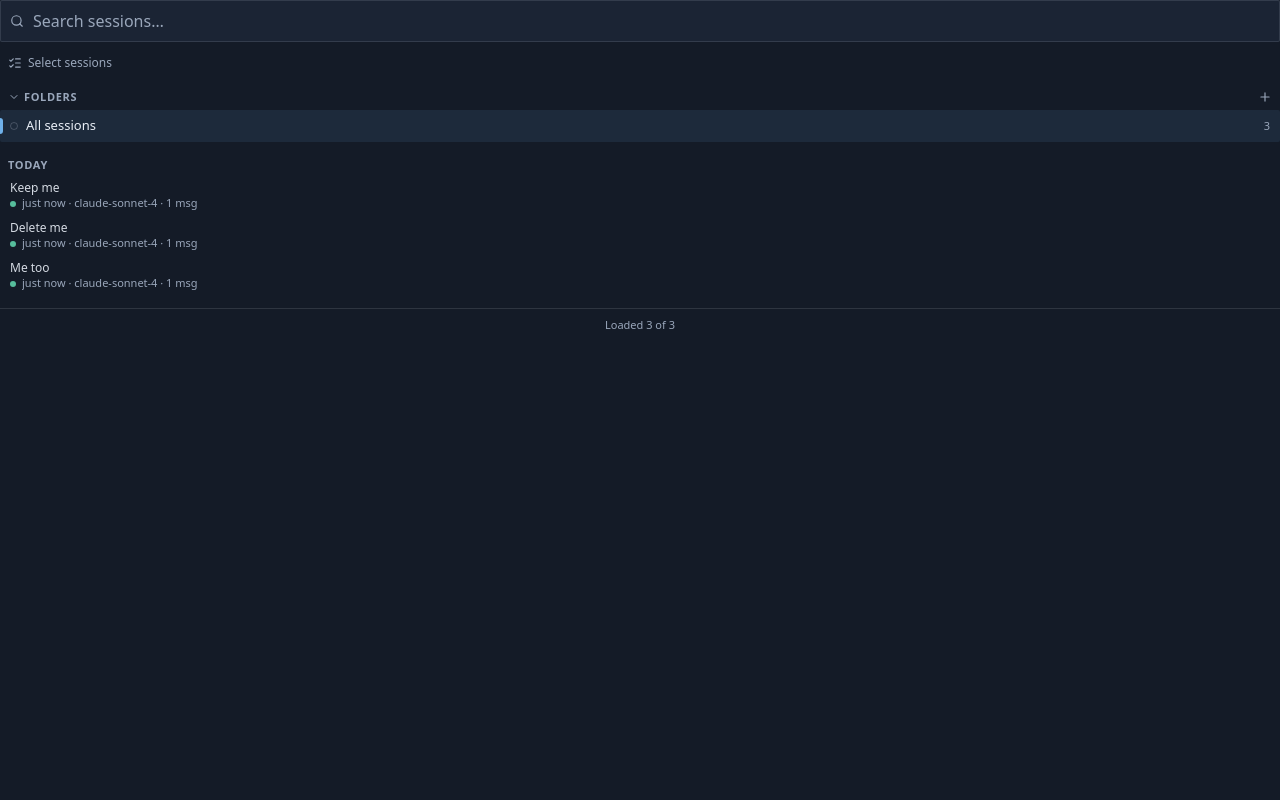
SessionList bulk-ops wiring (connected) › multi-selects rows and deletes each checked session on confirm
The image size is (1280, 800).
Expected: the text "Delete me" is shown, [10,219,68,236]
Enter multi-select mode.
Step 1. Click the button "Select sessions" → (60, 63), box [0,50,120,76]
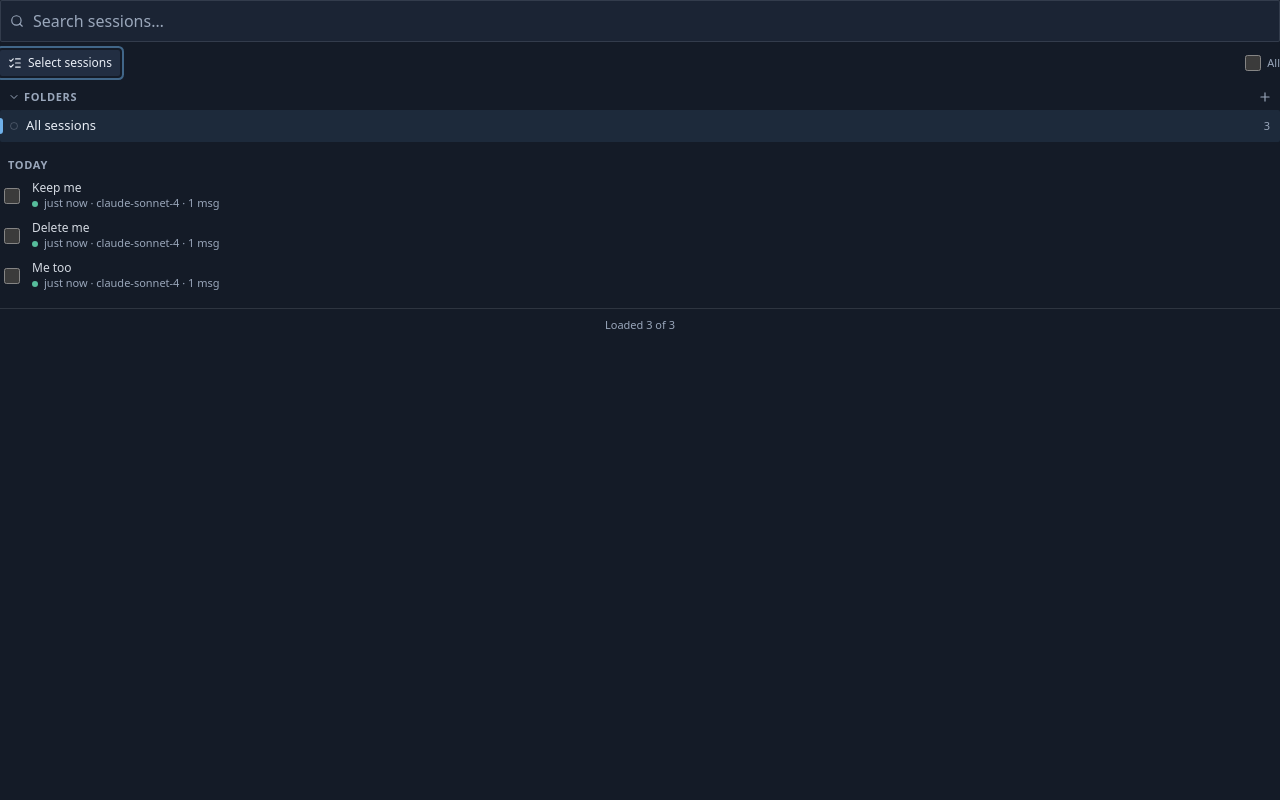
Check two of the three rows.
Step 2. Click the checkbox named "Delete me" → (12, 236), box [4,228,20,244]
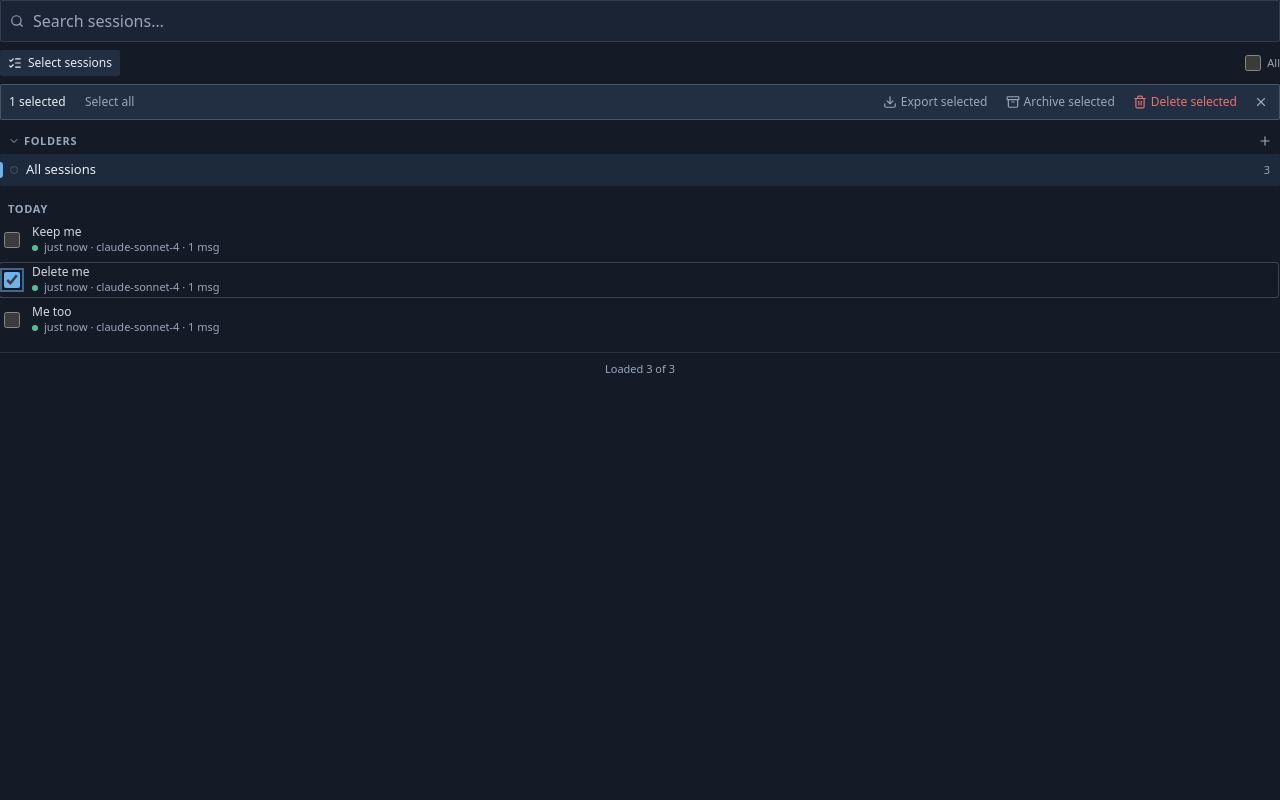
Step 3. Click the checkbox named "Me too" → (12, 320), box [4,312,20,328]
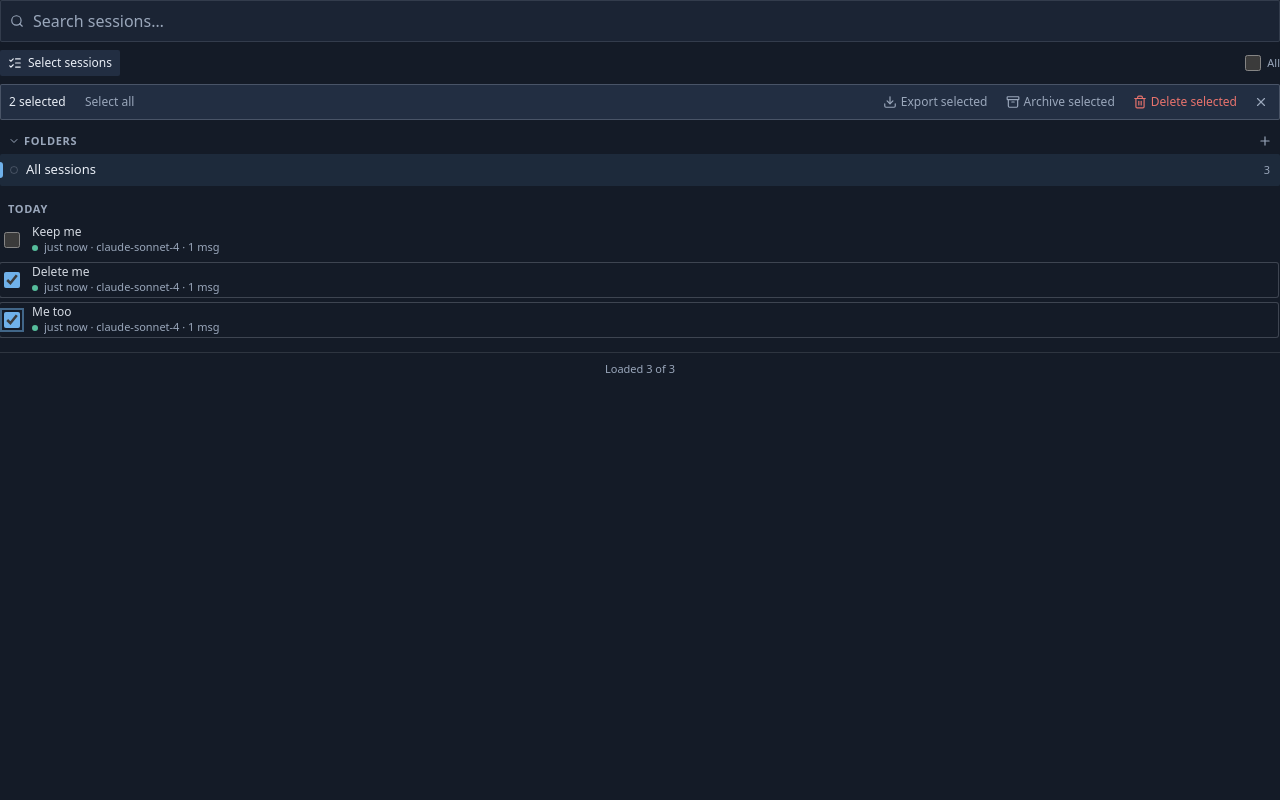
Expected: the text "2 selected" is shown, [9,93,73,111]
Step 4. Click the button with aria-label "delete selected sessions" → (1185, 102), box [1127,91,1243,113]
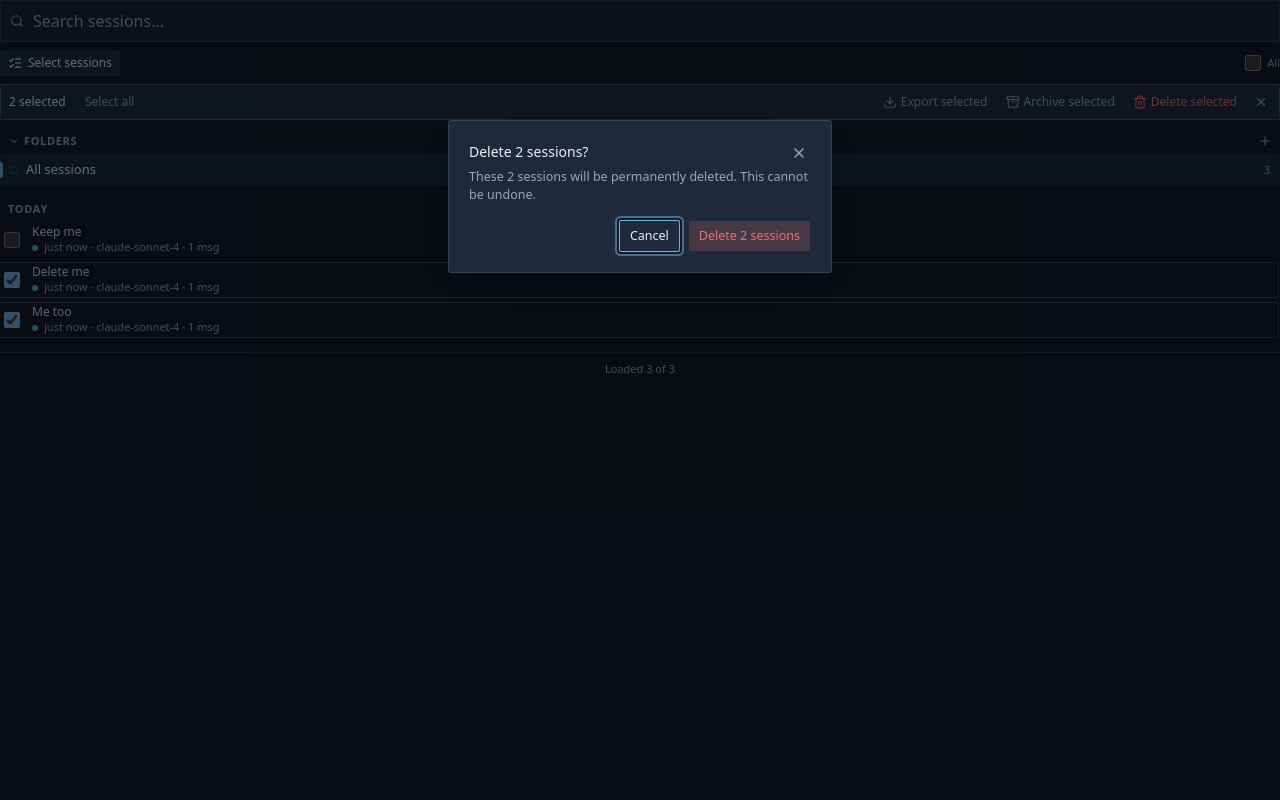
Expected: the heading "Delete 2 sessions?" is shown, [469,142,588,161]
Step 5. Click the button "Delete 2 sessions" → (749, 236), box [688,220,811,252]
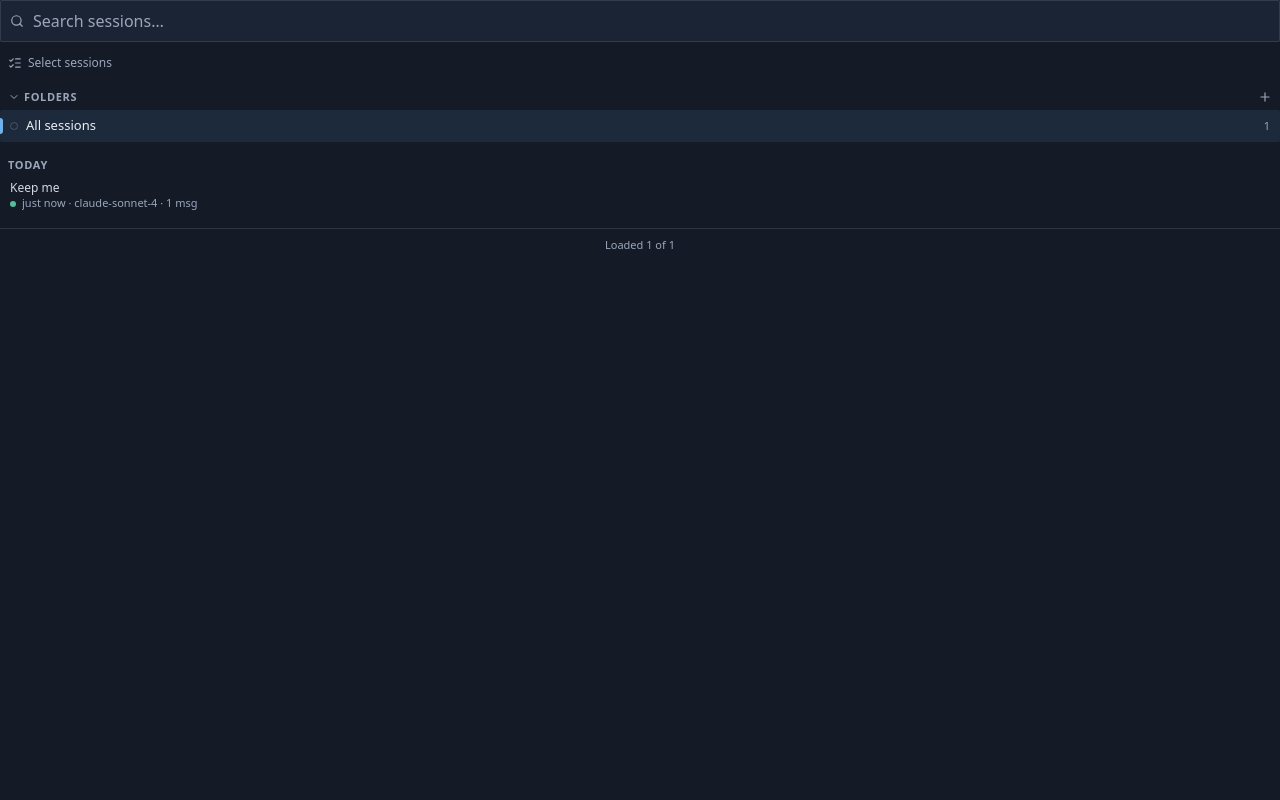
Expected: the text "Keep me" is shown, [10,179,60,196]
Expected: the button "Delete me" is gone
Expected: the button "Me too" is gone
